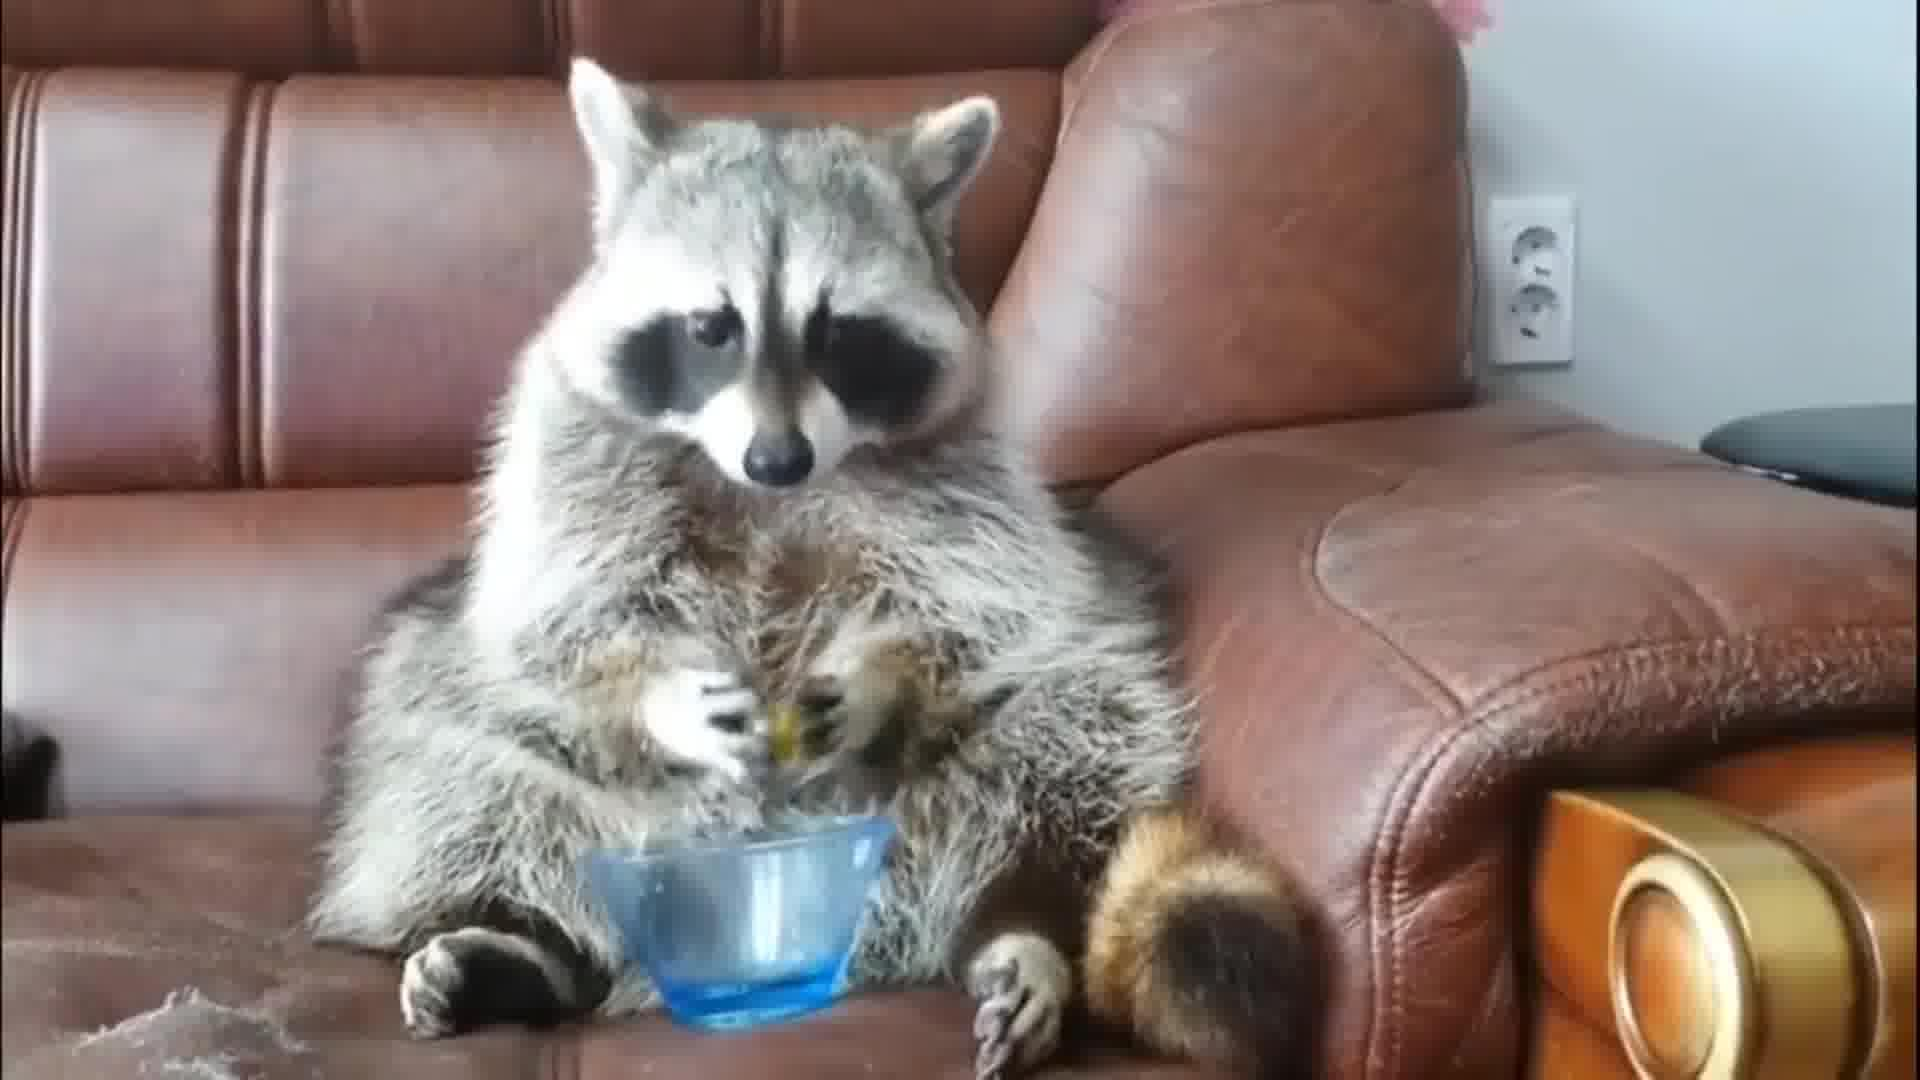raccoon: (309, 53, 1328, 1080)
